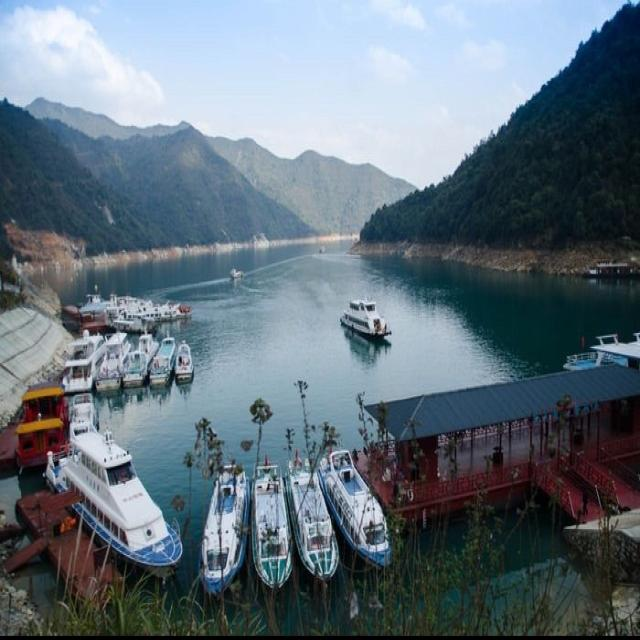passenger ship: (58, 431, 177, 576), (331, 305, 399, 358), (55, 325, 95, 398), (126, 322, 151, 389), (152, 332, 177, 392), (100, 320, 121, 386)
